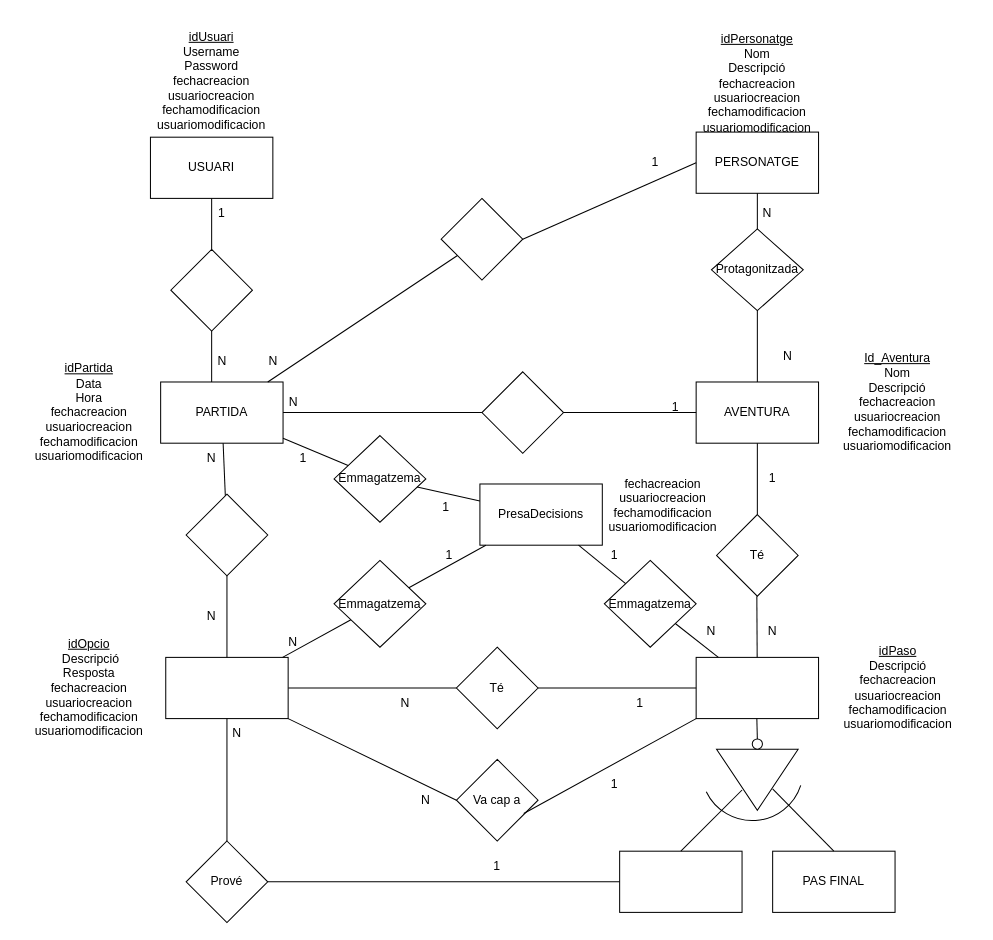
The diagram is 993 pixels wide and 940 high, and some of its shapes have lost their labels. The centre of each missing label's shape, as x and y in pixels:
"Es jugada amb" belongs at point (481, 238).
"Guarden" belongs at point (226, 534).
"Juga" belongs at point (211, 289).
"OPCIÓ" belongs at point (226, 687).
"PAS" belongs at point (757, 687).
"PAS NO FINAL" belongs at point (680, 881).
"Succeeix en" belongs at point (522, 412).
